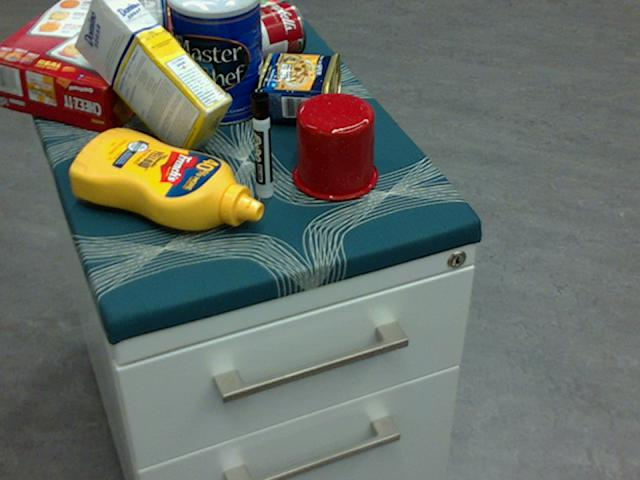cracker_box: (0, 0, 198, 135)
gelatin_box: (211, 0, 283, 38)
large_marker: (251, 88, 271, 196)
master_chef_can: (167, 0, 263, 125)
mug: (290, 91, 376, 200)
mustard_bottle: (69, 128, 263, 229)
potted_meat_can: (257, 50, 339, 128)
sugar_box: (75, 0, 234, 160)
tomato_soup_can: (210, 0, 306, 71)
tuna_fish_can: (124, 0, 166, 57)
